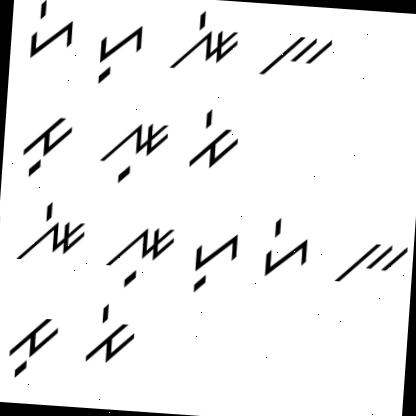he: (261, 212, 316, 283), (24, 0, 79, 62)
hu: (184, 230, 246, 302), (90, 20, 151, 87)
mbe: (180, 104, 243, 174), (81, 302, 141, 370)
mbu: (16, 106, 78, 182), (0, 312, 64, 384)
nde: (6, 192, 94, 268), (165, 5, 246, 79)
ndu: (98, 216, 180, 292), (94, 113, 173, 189)
